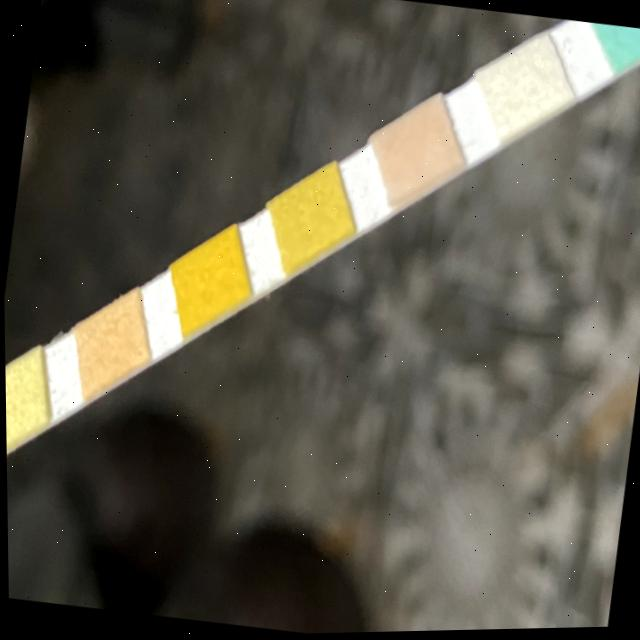Bilirubin: (496, 55, 555, 120)
Blood: (182, 250, 235, 311)
Glucose: (607, 26, 640, 54)
Ketone: (387, 121, 451, 183)
Protein: (4, 374, 33, 434)
SpGravity: (280, 186, 338, 248)
pH: (81, 313, 139, 371)
